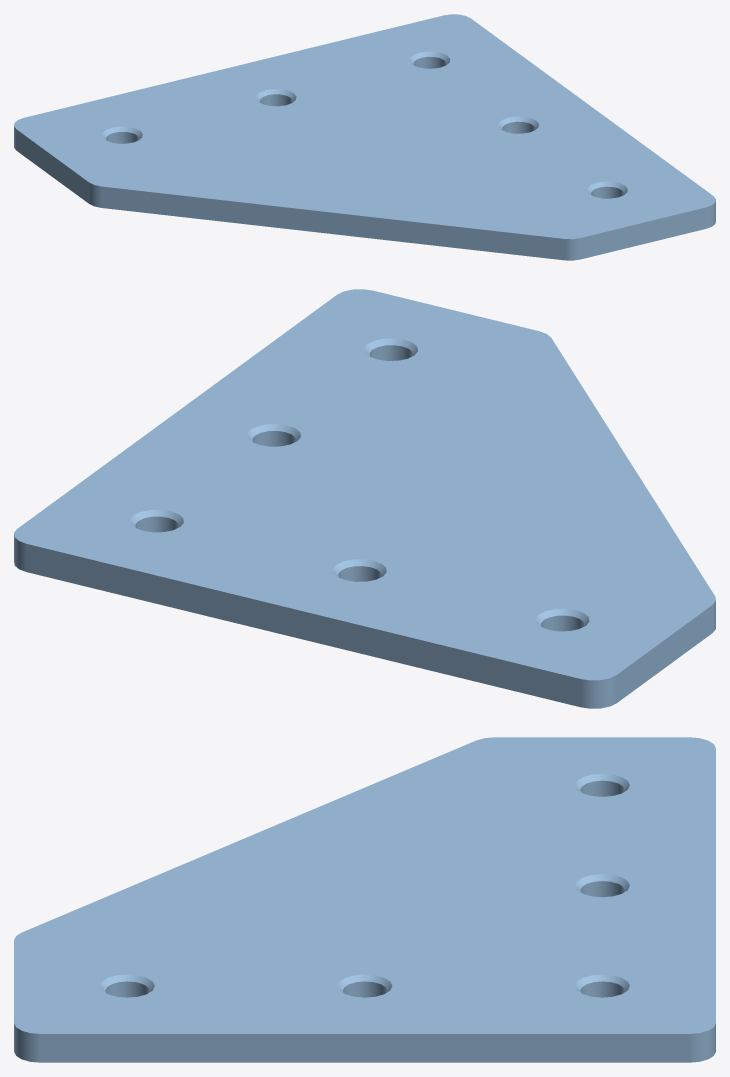
3 views of the same model, one above another, from view 1: azimuth 30°, elevation 25°; view 2: azimuth 150°, elevation 25°; view 3: azimuth 270°, elevation 25° (orthographic). The views are drawn at different scales.
Parts seen in each view (by area): view 1: mesh15293, mesh15301, mesh15302, mesh15300; view 2: mesh15293, mesh15299, mesh15300, mesh15294; view 3: mesh15293, mesh15303, mesh15297, mesh15298, mesh15310, mesh15316, mesh15291, mesh15312, mesh15308.
Part boxes in pixels (x1,y1,x2,y2): mesh15293: (14, 14, 715, 239); mesh15301: (101, 186, 564, 260); mesh15302: (580, 207, 706, 259); mesh15300: (16, 129, 89, 203); mesh15293: (14, 289, 715, 680); mesh15299: (26, 544, 580, 707); mesh15300: (616, 605, 712, 702); mesh15294: (581, 675, 616, 708); mesh15293: (14, 737, 715, 1033); mesh15303: (40, 1034, 689, 1062); mesh15297: (14, 1023, 40, 1062); mesh15298: (689, 1023, 715, 1062); mesh15310: (580, 881, 624, 897); mesh15316: (343, 981, 386, 997); mesh15291: (105, 981, 149, 997); mesh15312: (580, 981, 624, 997); mesh15308: (580, 780, 624, 796).
Size of the model in its own units: 0.133 by 0.006 by 0.133.
